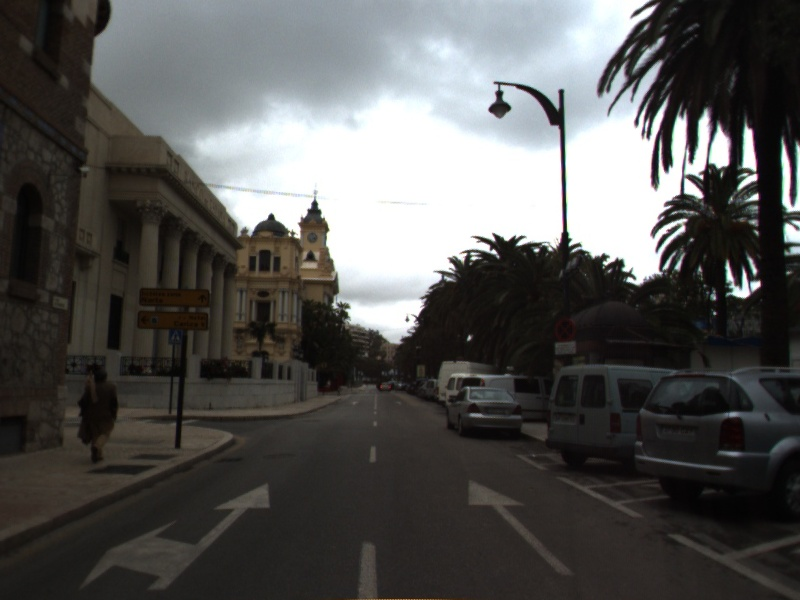STRAIGHT: (464, 474, 580, 579)
STRAIGHT_LEFT: (78, 479, 272, 593)
